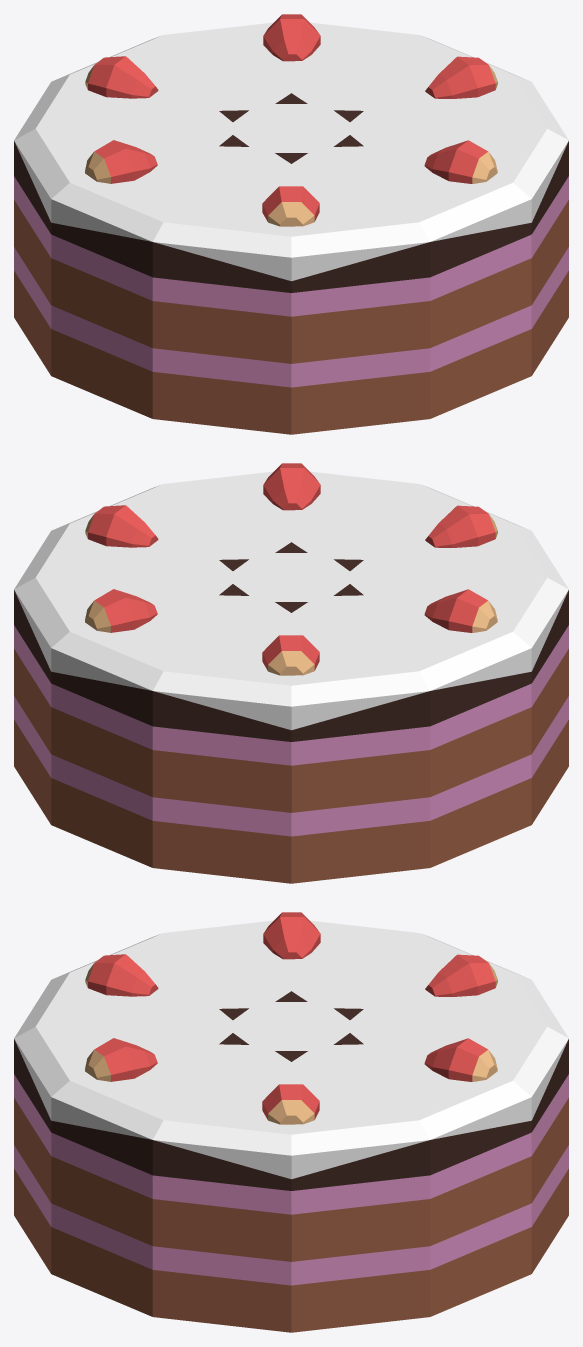
Rendered from cake.obj.
3 views of the same model, one above another, from view 1: azimuth 30°, elevation 25°; view 2: azimuth 150°, elevation 25°; view 3: azimuth 270°, elevation 25° (orthographic).
Parts seen in each view (by area): view 1: slice; view 2: slice; view 3: slice.
Boxes of the visible parts, box(x1,y1,x2,y2) form: slice: box(14, 14, 568, 434); slice: box(14, 463, 568, 883); slice: box(14, 912, 568, 1332).
Bounding box in the file's own units: 0.6392 × 0.2731 × 0.6392.
